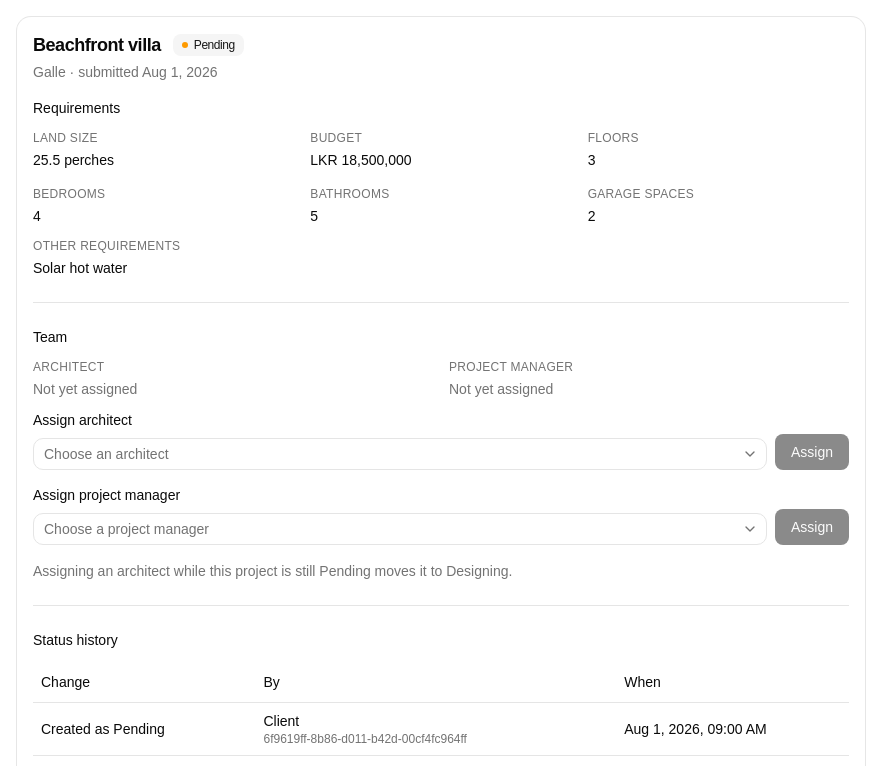
Test: ProjectDetailPage staff assignment › offers an admin the active architects and project managers to assign
The image size is (883, 766).
Click the dropdown named "Assign architect": (106, 454) [33,438,767,470]
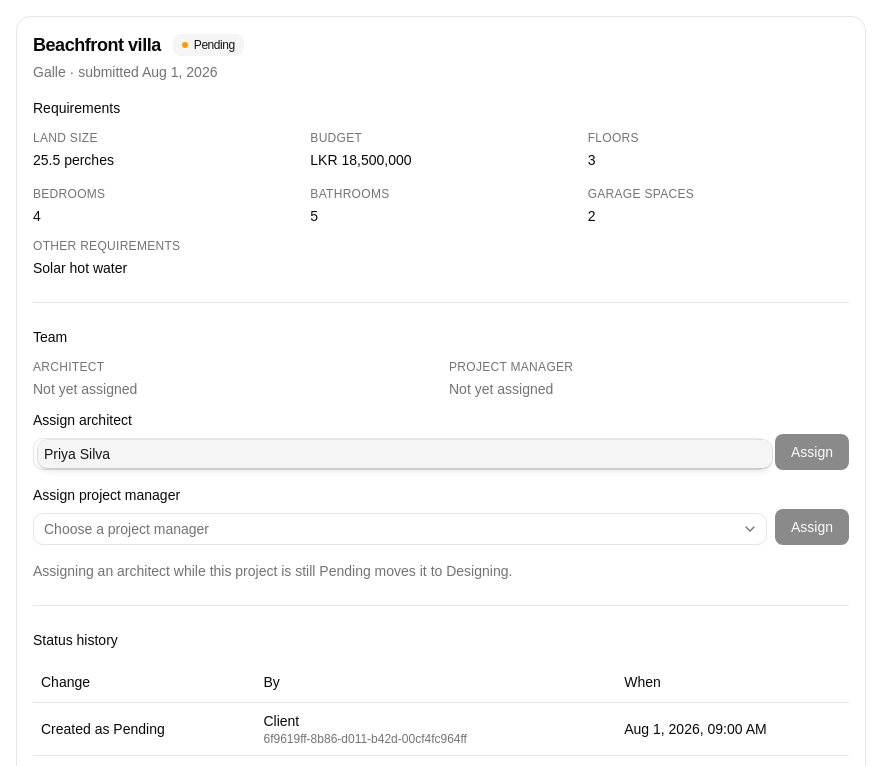
Expected: the option "Priya Silva" is shown, [38,440,772,468]
